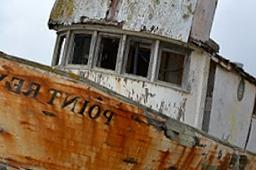rust: (5, 68, 96, 154), (106, 99, 149, 169), (159, 149, 236, 169)
